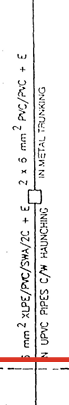Cable Termination Box: (19, 181, 53, 213)
